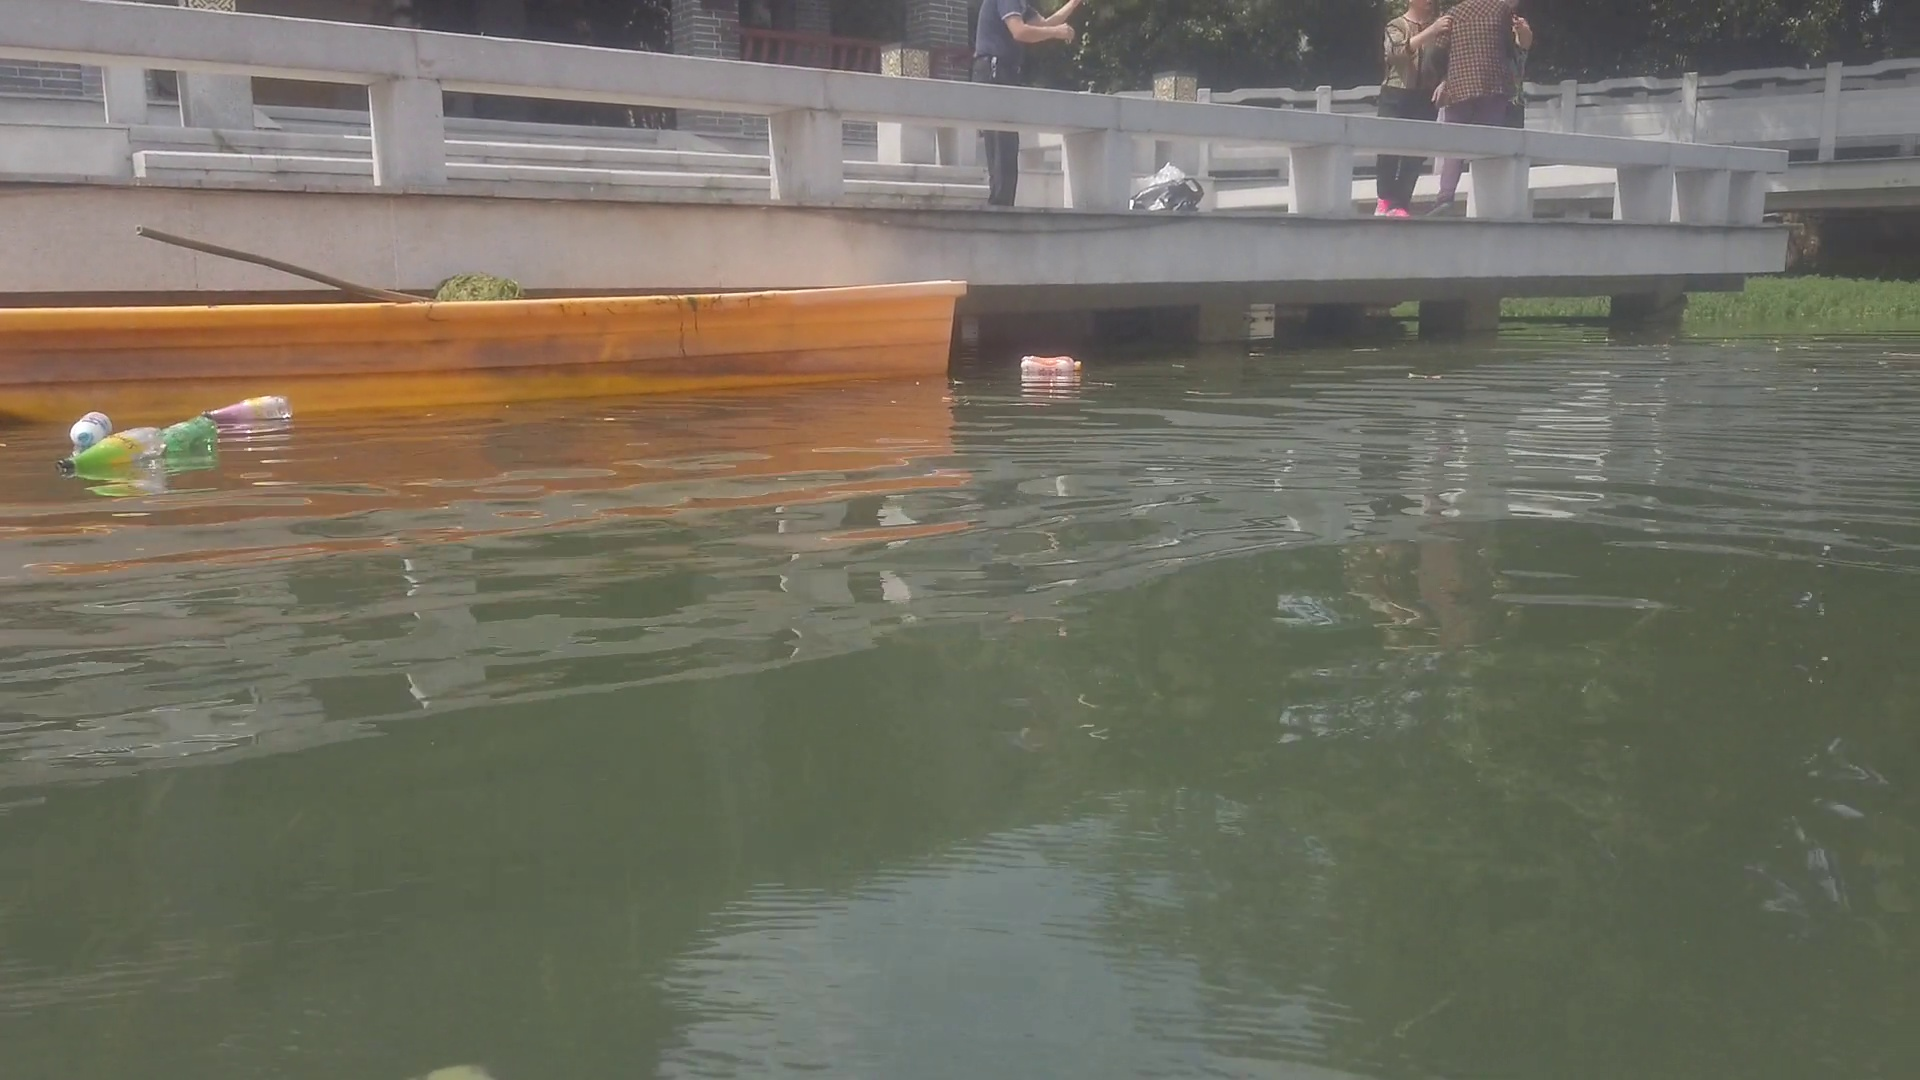bottle: (59, 425, 167, 467), (200, 396, 295, 423), (156, 414, 219, 454), (1019, 352, 1081, 378), (73, 411, 113, 446)
